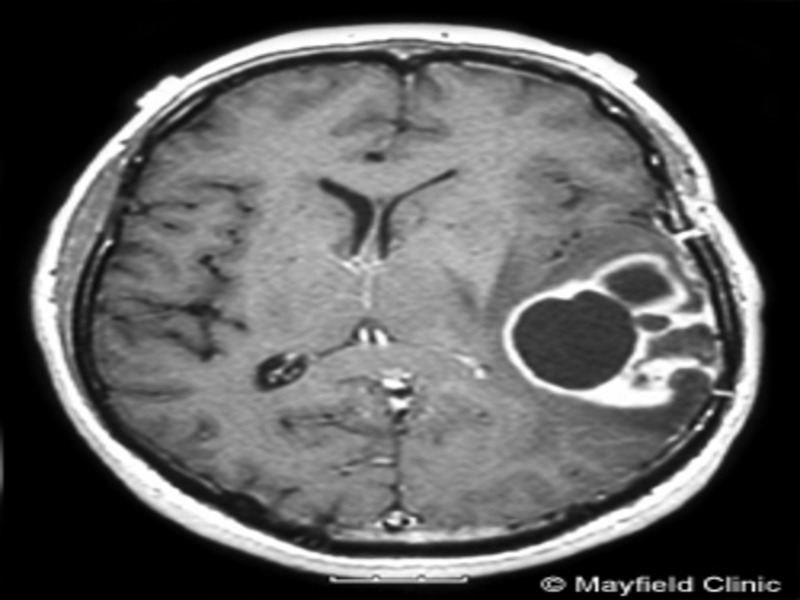tumor: (494, 252, 705, 429)
